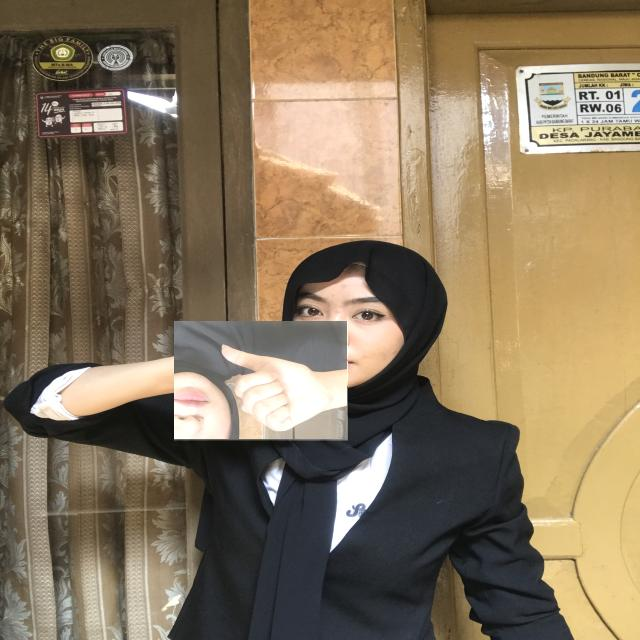sedih: (174, 322, 348, 442)
